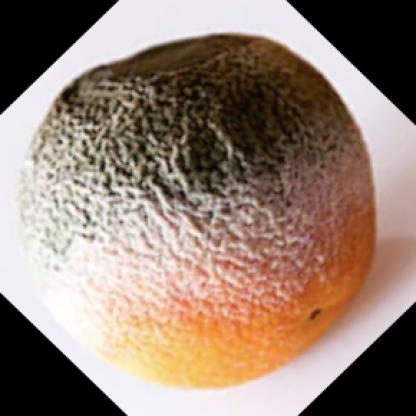rotten: (21, 34, 377, 390)
